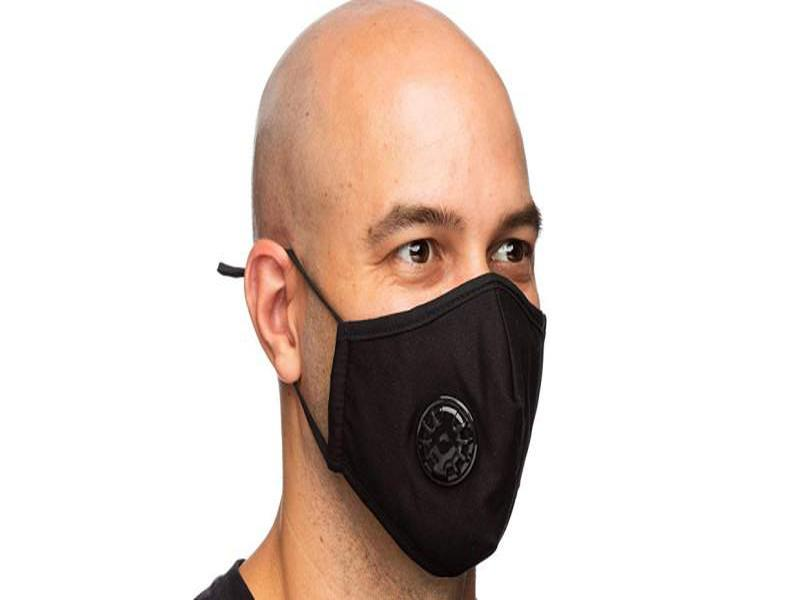with_mask: (239, 1, 547, 580)
